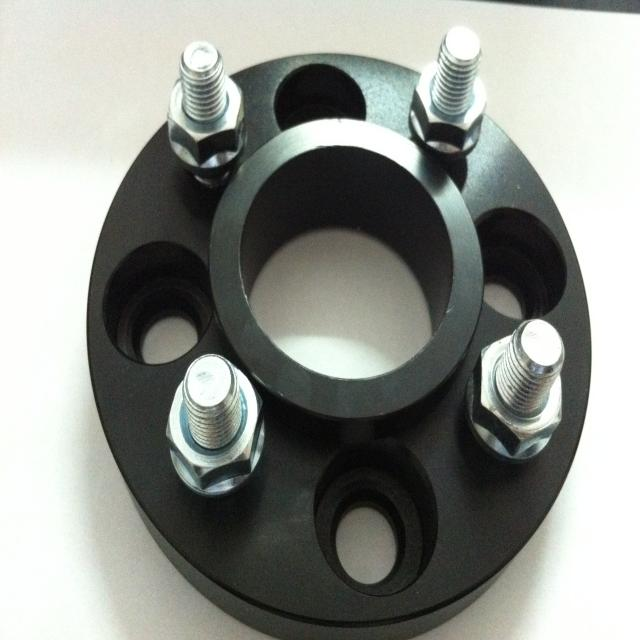bolt nut: (165, 365, 264, 490), (469, 332, 566, 455), (166, 65, 246, 166), (409, 56, 488, 149)
